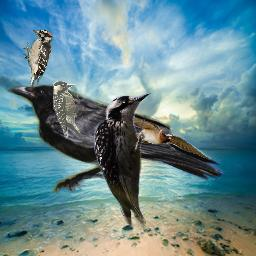Crow: (7, 83, 225, 194)
Swallow: (102, 103, 212, 160)
Woodpecker: (89, 86, 155, 233), (23, 30, 53, 91), (53, 81, 83, 139)
